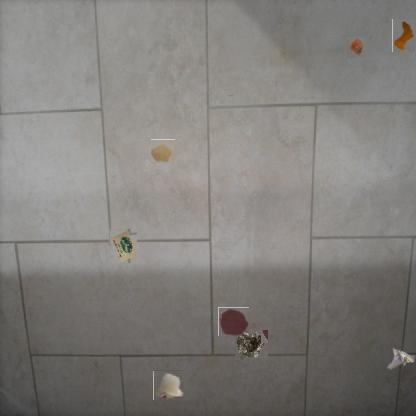dirty: (107, 230, 139, 262), (235, 329, 267, 361), (153, 370, 184, 400), (392, 18, 415, 52), (387, 348, 415, 370), (345, 36, 365, 58)
liquid: (218, 307, 249, 336), (152, 139, 175, 163)
